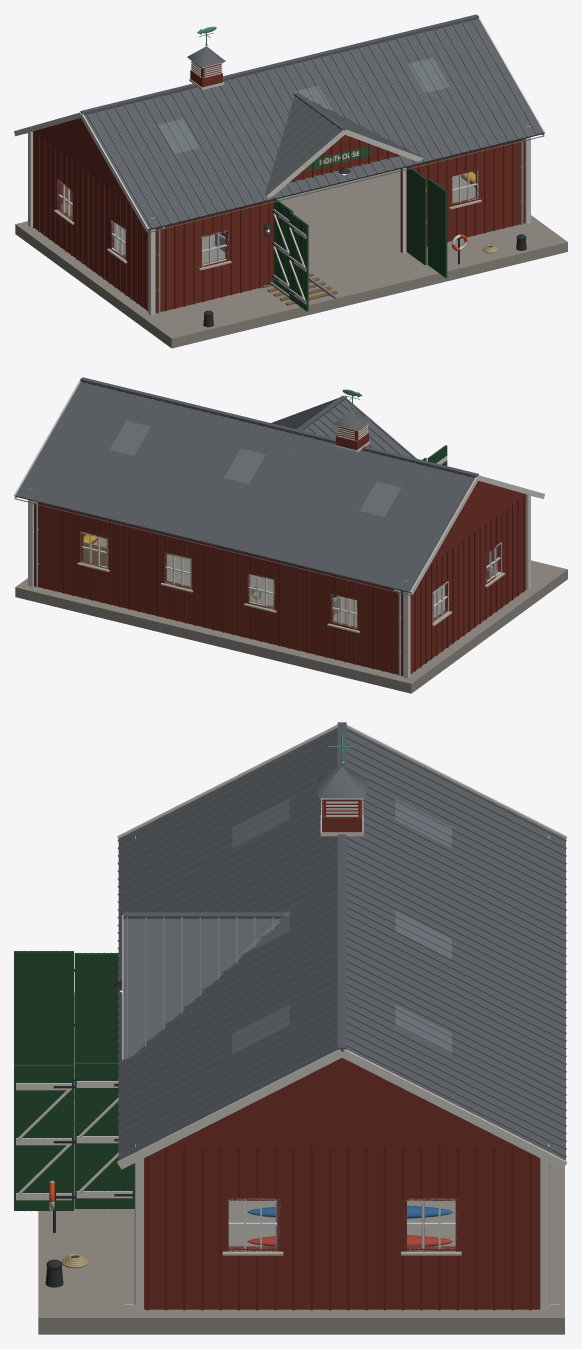
File: boathouse.glb
The picture shows the model from 3 angles, top to bottom: view 1: azimuth 30°, elevation 25°; view 2: azimuth 150°, elevation 25°; view 3: azimuth 270°, elevation 25°; orthographic projection. The views are drawn at different scales.
Visible parts, largest first — view 1: launch_hull_m, lantern_metal_m, sign_boathouse_m; view 2: launch_hull_m, lantern_metal_m; view 3: launch_hull_m, lantern_metal_m.
Part boxes in pixels (left/top/right/bottom): launch_hull_m: left=14, top=17, right=567, bottom=348; lantern_metal_m: left=24, top=14, right=544, bottom=327; sign_boathouse_m: left=309, top=145, right=371, bottom=170; launch_hull_m: left=14, top=379, right=567, bottom=693; lantern_metal_m: left=14, top=377, right=536, bottom=678; launch_hull_m: left=14, top=724, right=567, bottom=1334; lantern_metal_m: left=45, top=722, right=559, bottom=1304.
Bounding box in the file's own units: 19.06 × 10.29 × 13.67.
6 materials, 1 textured.
